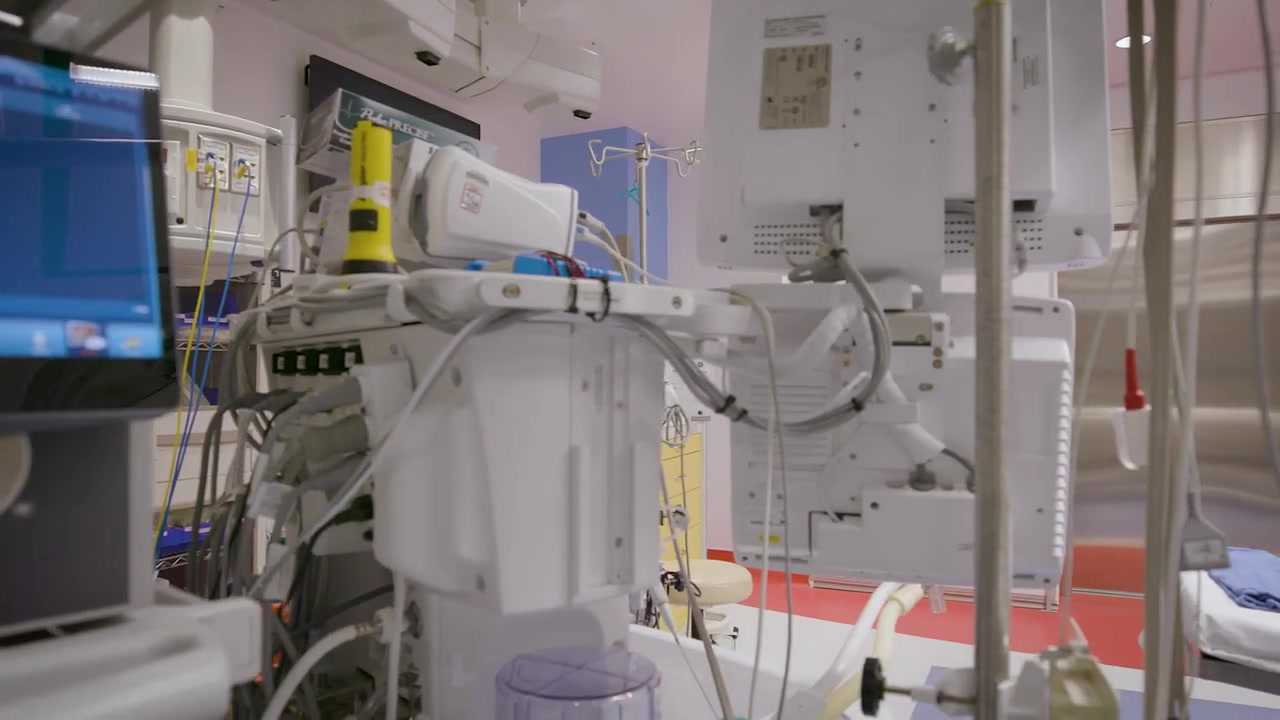bedside_monitor: (725, 280, 1077, 597), (698, 19, 1114, 279), (1, 35, 180, 415)
chair: (660, 559, 753, 640)
handle: (668, 441, 688, 451), (672, 472, 688, 481)
hospital_bed: (1178, 546, 1280, 697)
iv_pole: (859, 1, 1016, 720), (587, 132, 699, 284)
medical_drawer: (660, 421, 704, 559)
